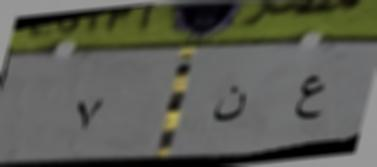7: (71, 95, 108, 134)
ain: (289, 68, 331, 126)
noon: (212, 80, 253, 128)
